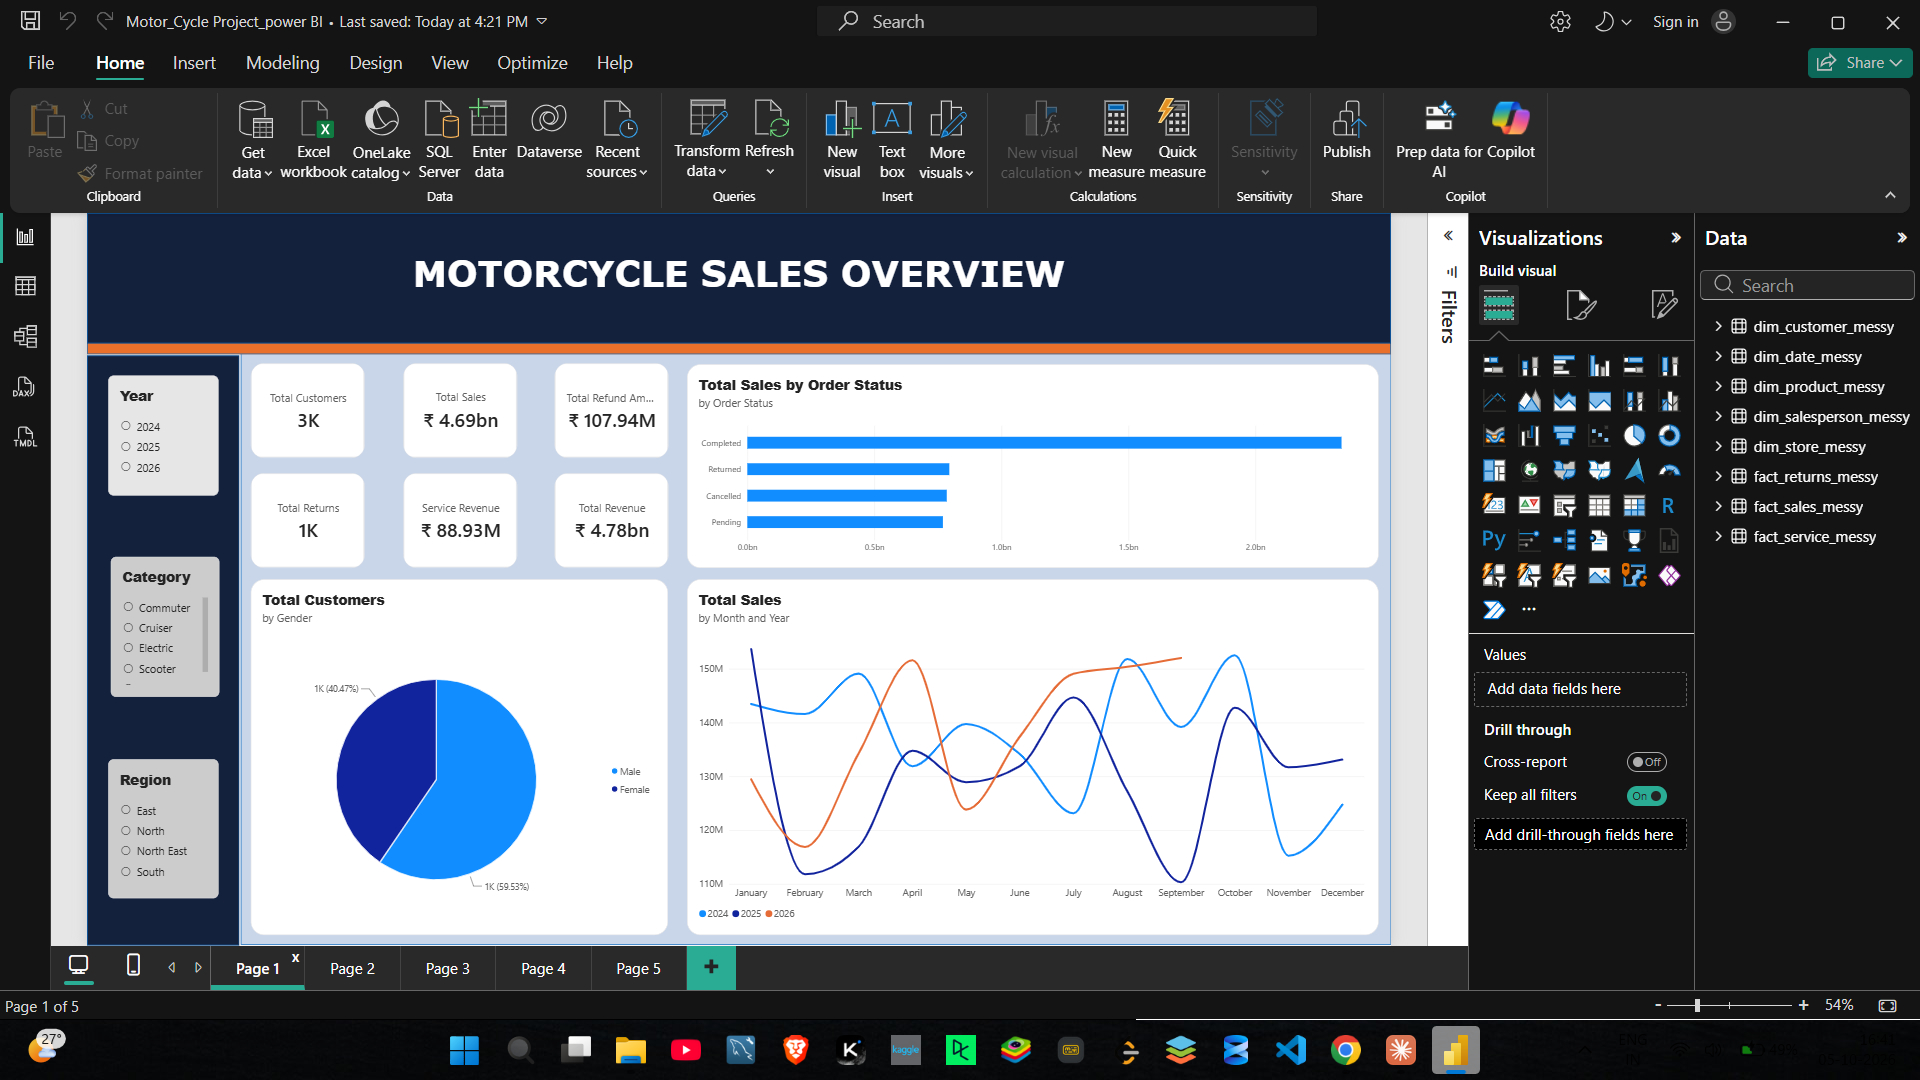

What the dashboard file says about the page in this screenshot:
{"tool":"powerbi","page":{"name":"Page 1","canvas":[1920,1080],"ordinal":0},"visuals":[{"type":"shape","box":[226,192,1694,886],"z":0},{"type":"shape","box":[0,209.9,224.4,868.6],"z":1000},{"type":"shape","box":[0,0,1920,208],"z":2000},{"type":"shape","box":[0,0,1920,192],"z":3000},{"type":"pieChart","fields":{"Category":["dim_customer_messy.Gender"],"Y":["dim_customer_messy.Total Customers"]},"box":[242,540,614,524],"z":4000},{"type":"cardVisual","fields":{"Data":["dim_customer_messy.Total Returns"]},"box":[242,382,168,140],"z":5000},{"type":"lineChart","fields":{"Category":["dim_date_messy.Month"],"Series":["dim_date_messy.Year"],"Y":["fact_sales_messy.Total Sales"]},"box":[883.8,540,1018.8,523.8],"z":6000},{"type":"cardVisual","fields":{"Data":["dim_customer_messy.Total Customers"]},"box":[242,220,168,140],"z":7000},{"type":"cardVisual","fields":{"Data":["dim_customer_messy.Service Revenue"]},"box":[465,382,168,140],"z":8000},{"type":"listSlicer","fields":{"Values":["dim_store_messy.Region"]},"box":[32.1,805,162.5,205],"z":9000},{"type":"listSlicer","fields":{"Values":["dim_product_messy.Category"]},"box":[34.5,506.1,160.1,206.1],"z":10000},{"type":"listSlicer","fields":{"Values":["dim_date_messy.Year"]},"box":[32,240,162.6,177],"z":11000},{"type":"textbox","box":[0,0,1920,140],"z":12000},{"type":"cardVisual","fields":{"Data":["dim_customer_messy.Total Revenue"]},"box":[688,382,168,140],"z":13000},{"type":"cardVisual","fields":{"Data":["fact_sales_messy.Total Sales"]},"box":[466,220,168,140],"z":14000},{"type":"cardVisual","fields":{"Data":["fact_returns_messy.Total Refund Amount"]},"box":[688,220,168,140],"z":14001},{"type":"clusteredBarChart","title":"Total Sales by Order Status","fields":{"Category":["fact_sales_messy.Order_Status"],"Y":["fact_sales_messy.Total Sales"]},"box":[883.8,222.5,1018.8,300],"z":14002}]}

Visuals, with their boxes on the page's 1920x1080 design canvas (x1, y1, x2, y2). These are canvas units, not pixel positions in the 1920x1080 screenshot, which may show the page scaled, cropped or inside an application window:
shape: 226, 192, 1920, 1078
shape: 0, 210, 224, 1078
shape: 0, 0, 1920, 208
shape: 0, 0, 1920, 192
pieChart - dim_customer_messy.Gender x dim_customer_messy.Total Customers: 242, 540, 856, 1064
cardVisual - dim_customer_messy.Total Returns: 242, 382, 410, 522
lineChart - dim_date_messy.Month x dim_date_messy.Year: 884, 540, 1903, 1064
cardVisual - dim_customer_messy.Total Customers: 242, 220, 410, 360
cardVisual - dim_customer_messy.Service Revenue: 465, 382, 633, 522
listSlicer - dim_store_messy.Region: 32, 805, 195, 1010
listSlicer - dim_product_messy.Category: 34, 506, 195, 712
listSlicer - dim_date_messy.Year: 32, 240, 195, 417
textbox: 0, 0, 1920, 140
cardVisual - dim_customer_messy.Total Revenue: 688, 382, 856, 522
cardVisual - fact_sales_messy.Total Sales: 466, 220, 634, 360
cardVisual - fact_returns_messy.Total Refund Amount: 688, 220, 856, 360
"Total Sales by Order Status" clusteredBarChart: 884, 222, 1903, 522
